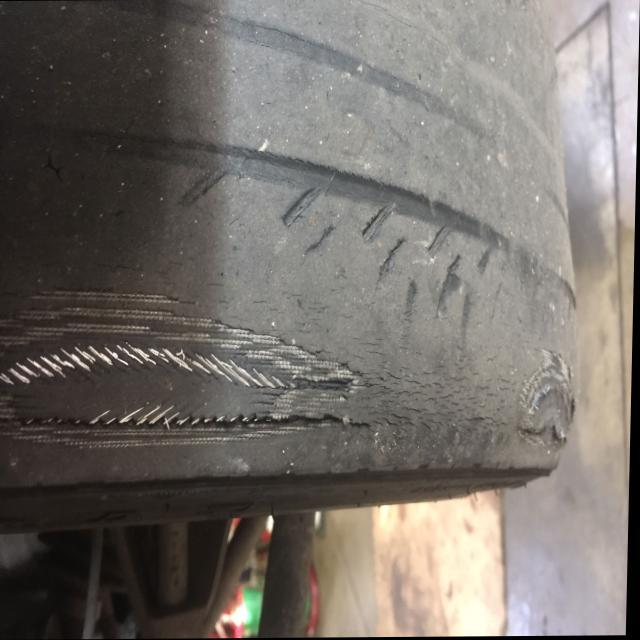Flat spots: (0, 0, 562, 454)
